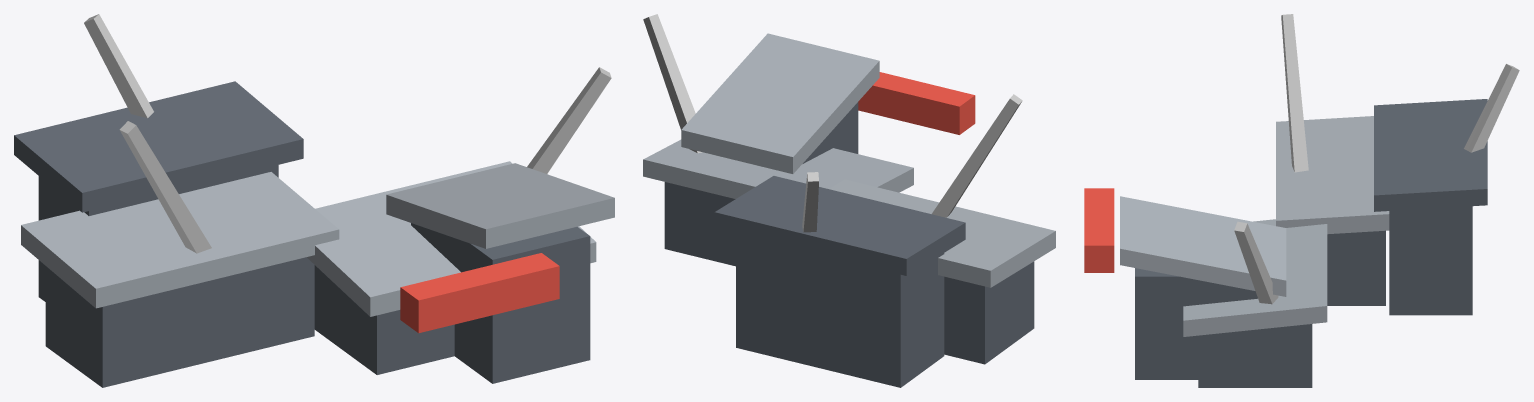
File: ship_chunk_1.obj
3 views of the same model, side by side, from view 1: azimuth 30°, elevation 25°; view 2: azimuth 150°, elevation 25°; view 3: azimuth 270°, elevation 25° (orthographic). The views are drawn at different scales.
Visible parts, largest first — view 1: ship_chunk_1; view 2: ship_chunk_1; view 3: ship_chunk_1.
Part boxes in pixels (x1,y1,x2,y2): ship_chunk_1: (14, 14, 614, 387); ship_chunk_1: (643, 14, 1055, 387); ship_chunk_1: (1084, 14, 1519, 387).
Size of the model in its own units: 1.58 by 0.8064 by 1.44.
